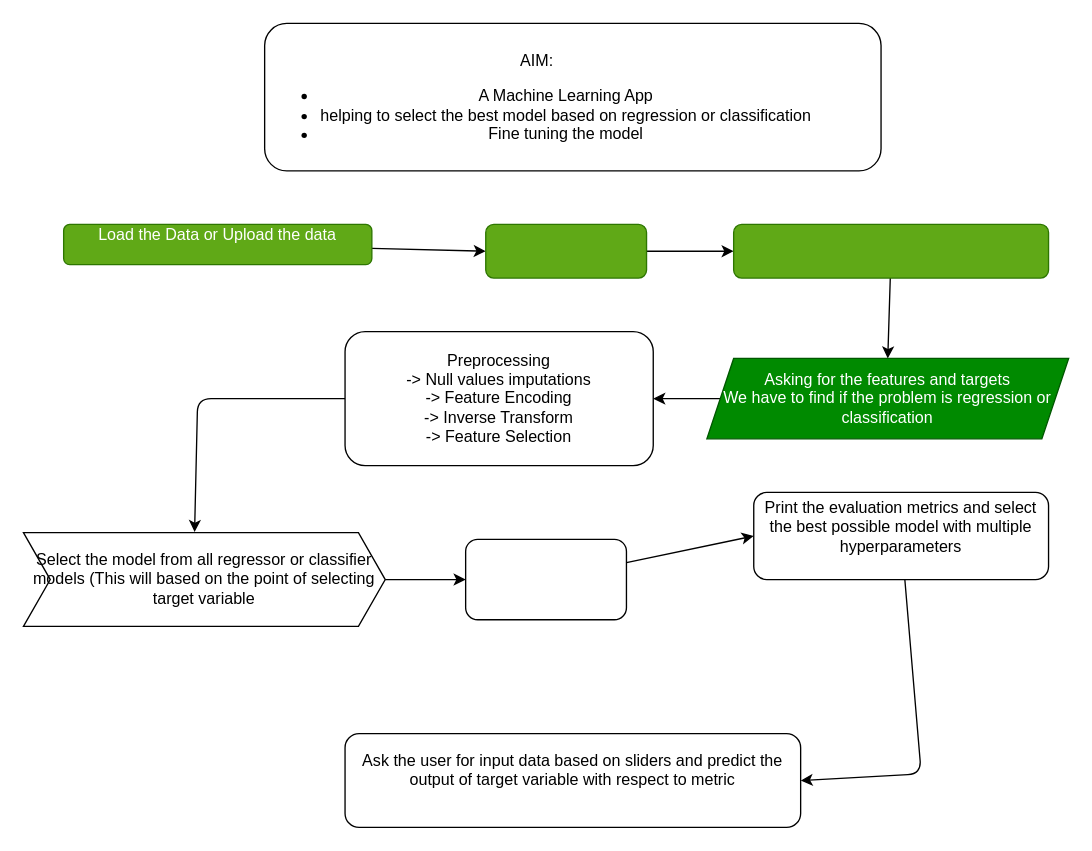
Some shapes in this 1092 by 851 pixel diagram are drawn without their labels. Each missing label, with the box of its shape:
Add the evaluation metrics based on the problem: (464, 538, 626, 620)
Check the column names and data types: (732, 223, 1049, 278)
Example data button: (484, 223, 647, 278)
